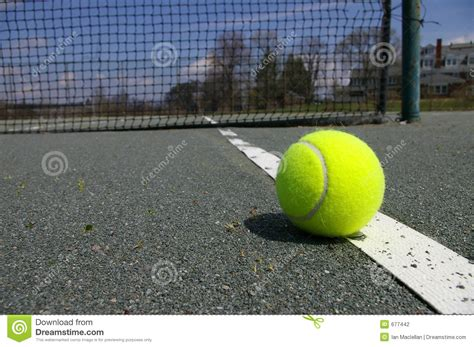tennis_ball: (276, 129, 385, 239)
